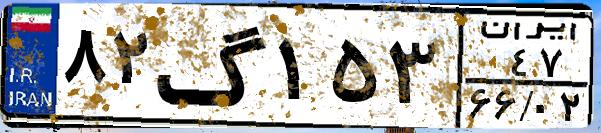0: (535, 70, 560, 125)
1: (270, 28, 330, 110)
2: (110, 28, 156, 98), (560, 70, 590, 125)
3: (385, 28, 445, 110)
4: (508, 27, 537, 80)
5: (330, 28, 385, 110)
6: (470, 70, 495, 125), (495, 70, 520, 125)
7: (537, 27, 568, 80)
8: (57, 26, 110, 100)
گ: (156, 12, 270, 120)
